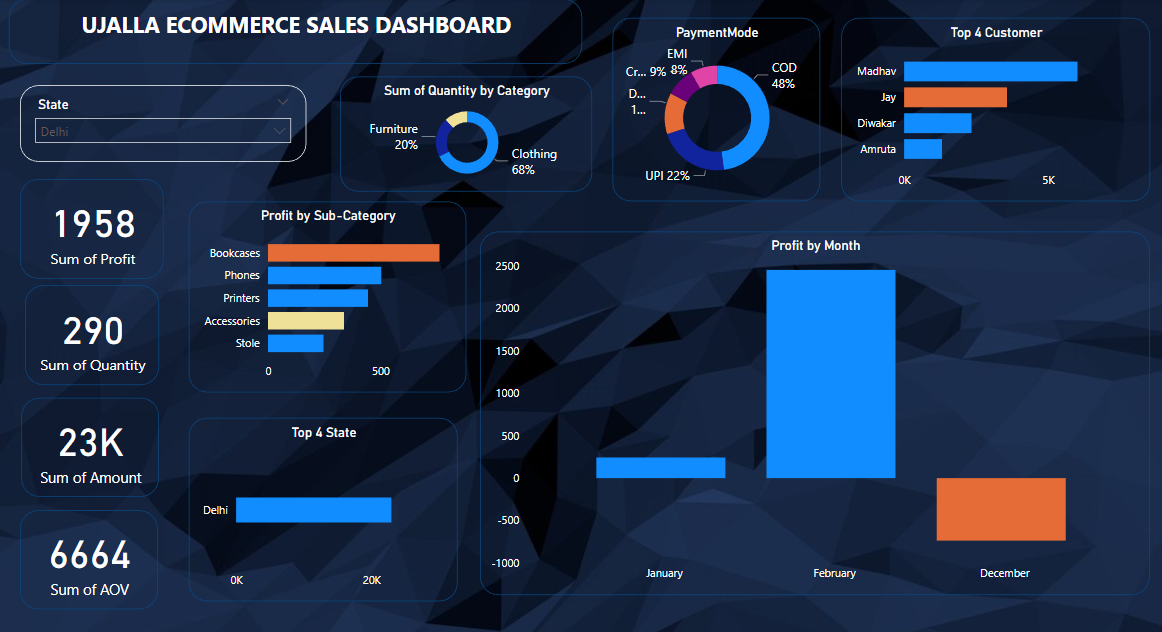

What the dashboard file says about the page in this screenshot:
{"tool":"powerbi","page":{"name":"Page 1","canvas":[1280,720],"ordinal":0},"visuals":[{"type":"textbox","box":[9.6,0,629.8,71.4],"z":0},{"type":"columnChart","title":"Profit by Month","fields":{"Category":["Orders.Order Date.Variation.Date Hierarchy.Month"],"Y":["Details.Profit"]},"box":[526.9,255.2,735.5,399.3],"z":1000},{"type":"barChart","title":"Profit by Sub-Category","fields":{"Category":["Details.Sub-Category"],"Y":["Details.Profit"]},"box":[207.2,222.3,304.6,209.9],"z":2000},{"type":"donutChart","fields":{"Category":["Details.Category"],"Y":["Details.Quantity"]},"box":[373.2,85.1,277.2,126.2],"z":3000},{"type":"donutChart","title":"PaymentMode","fields":{"Y":["Details.Quantity"],"Category":["Details.PaymentMode"]},"box":[672.4,20.6,227.8,201.7],"z":4000},{"type":"card","fields":{"Values":["Details.Amount"]},"box":[23.3,437.7,150.9,108.4],"z":5000},{"type":"card","fields":{"Values":["Details.Quantity"]},"box":[27.4,314.2,146.8,109.8],"z":6000},{"type":"card","fields":{"Values":["Details.Profit"]},"box":[22,197.6,157.8,109.8],"z":7000},{"type":"barChart","title":"Top 4 State","fields":{"Category":["Orders.State"],"Y":["Details.Amount"]},"box":[207.2,459.7,295,201.7],"z":8000},{"type":"clusteredBarChart","title":"Top 4 Customer","fields":{"Category":["Orders.CustomerName"],"Y":["Details.Amount"]},"box":[923.5,20.6,338.9,201.7],"z":9000},{"type":"slicer","fields":{"Values":["Orders.State"]},"box":[22,94.7,314.2,83.7],"z":10000},{"type":"card","fields":{"Values":["Details.AOV"]},"box":[22,561.2,150.9,108.4],"z":10001}]}

Visuals, with their boxes on the page's 1280x720 design canvas (x1, y1, x2, y2). These are canvas units, not pixel positions in the 1162x632 screenshot, which may show the page scaled, cropped or inside an application window:
textbox: bbox=(10, 0, 639, 71)
"Profit by Month" columnChart: bbox=(527, 255, 1262, 654)
"Profit by Sub-Category" barChart: bbox=(207, 222, 512, 432)
donutChart - Details.Category x Details.Quantity: bbox=(373, 85, 650, 211)
"PaymentMode" donutChart: bbox=(672, 21, 900, 222)
card - Details.Amount: bbox=(23, 438, 174, 546)
card - Details.Quantity: bbox=(27, 314, 174, 424)
card - Details.Profit: bbox=(22, 198, 180, 307)
"Top 4 State" barChart: bbox=(207, 460, 502, 661)
"Top 4 Customer" clusteredBarChart: bbox=(924, 21, 1262, 222)
slicer - Orders.State: bbox=(22, 95, 336, 178)
card - Details.AOV: bbox=(22, 561, 173, 670)
